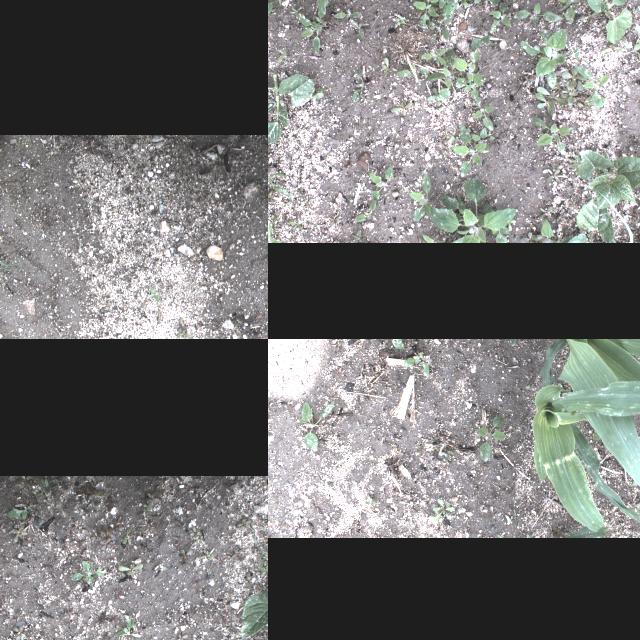crop: (531, 369, 640, 536), (532, 339, 640, 500), (576, 148, 640, 209), (268, 74, 315, 148), (239, 531, 268, 638), (572, 0, 632, 43), (565, 198, 613, 242), (268, 142, 294, 211), (268, 215, 282, 243)
weed: (426, 178, 516, 242), (520, 28, 578, 88), (585, 185, 633, 242), (534, 66, 586, 116), (421, 48, 461, 102), (297, 400, 337, 454), (450, 124, 488, 178), (528, 116, 574, 156), (473, 414, 507, 466), (296, 8, 336, 52), (228, 531, 268, 574), (574, 64, 612, 108), (452, 50, 482, 100), (407, 170, 431, 222), (513, 1, 561, 25), (366, 164, 396, 202), (482, 203, 510, 243), (428, 3, 454, 41), (398, 351, 432, 379), (70, 560, 106, 584), (428, 496, 458, 524), (471, 96, 494, 132), (487, 1, 511, 34), (551, 0, 584, 23), (611, 40, 640, 66), (413, 0, 439, 28), (538, 220, 570, 242), (112, 616, 142, 638), (468, 28, 490, 54), (350, 67, 366, 101), (354, 198, 376, 222), (560, 80, 578, 108), (468, 127, 489, 151), (422, 0, 458, 14), (394, 64, 430, 78), (4, 502, 32, 520), (0, 257, 23, 278), (34, 477, 58, 497), (426, 444, 454, 460), (420, 48, 446, 64), (145, 487, 161, 513), (116, 562, 142, 578), (86, 485, 104, 507), (389, 100, 413, 116), (426, 87, 446, 105), (306, 0, 337, 11), (631, 206, 640, 240), (544, 167, 562, 183), (348, 19, 364, 37), (579, 8, 599, 22), (118, 525, 132, 545), (234, 514, 253, 528), (71, 482, 85, 501), (381, 56, 393, 78), (98, 523, 114, 539), (568, 155, 580, 175), (600, 44, 624, 54), (332, 10, 362, 18), (12, 522, 24, 542), (297, 195, 315, 208), (146, 286, 160, 302), (178, 546, 192, 562), (188, 524, 202, 540), (505, 508, 519, 524), (198, 548, 216, 560), (538, 207, 554, 220), (519, 232, 539, 242), (631, 498, 640, 520), (173, 318, 187, 332), (420, 234, 444, 242), (289, 214, 301, 230), (493, 339, 520, 346), (12, 476, 30, 486), (276, 48, 288, 62), (350, 229, 362, 243), (176, 328, 192, 338), (112, 516, 122, 532), (394, 14, 406, 26), (525, 68, 537, 80), (105, 495, 114, 511), (139, 294, 149, 308), (506, 218, 516, 232), (364, 496, 378, 506), (152, 562, 168, 570), (521, 76, 533, 86), (576, 102, 590, 110), (173, 633, 188, 640), (329, 217, 339, 227), (441, 129, 451, 139), (98, 538, 108, 548), (90, 532, 100, 542), (121, 187, 132, 196), (636, 189, 640, 211), (156, 308, 162, 322), (315, 224, 325, 232), (472, 0, 491, 4), (109, 540, 115, 552), (492, 532, 503, 538), (295, 188, 303, 196), (524, 530, 532, 538), (268, 193, 273, 205), (634, 3, 640, 12), (400, 60, 408, 66), (449, 136, 457, 142), (27, 135, 31, 145), (348, 198, 354, 204), (442, 150, 446, 158), (494, 116, 498, 122)
